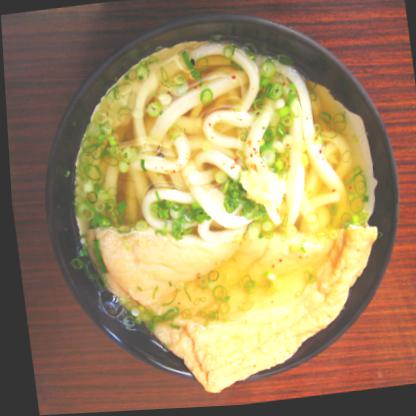Udon: (52, 21, 390, 363)
